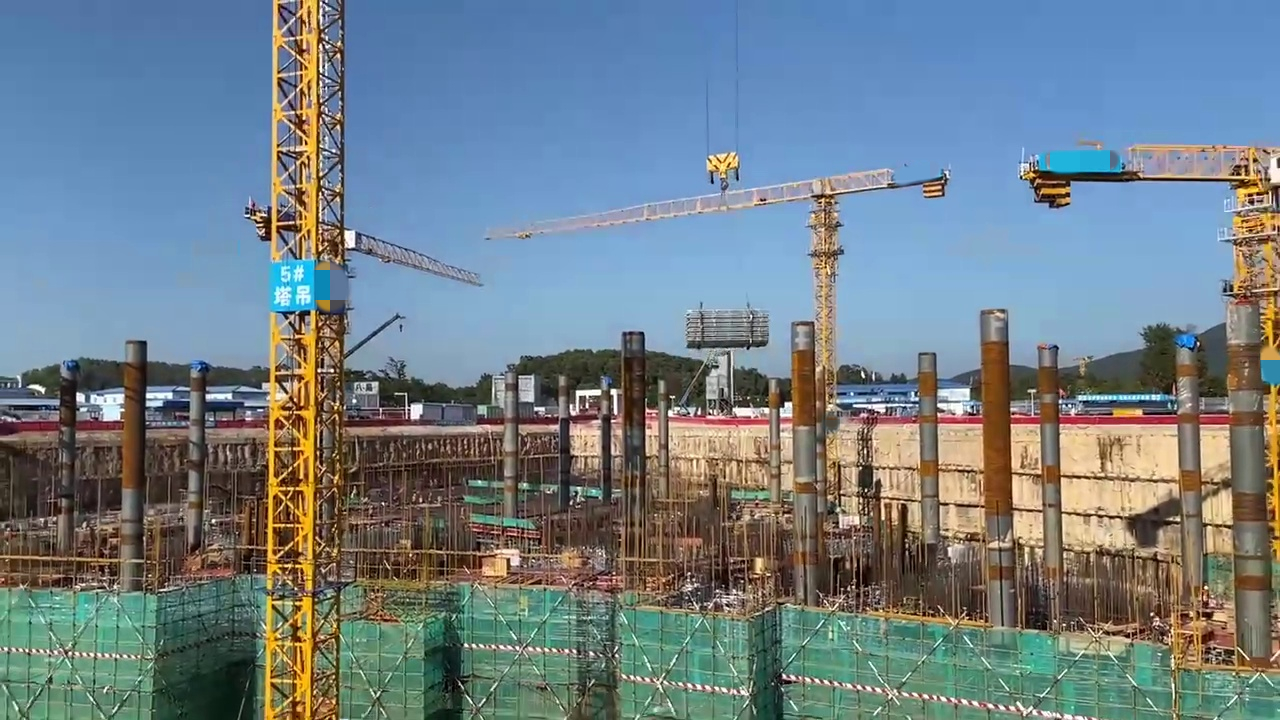hook: (706, 150, 742, 180)
scaffold: (685, 309, 770, 347)
